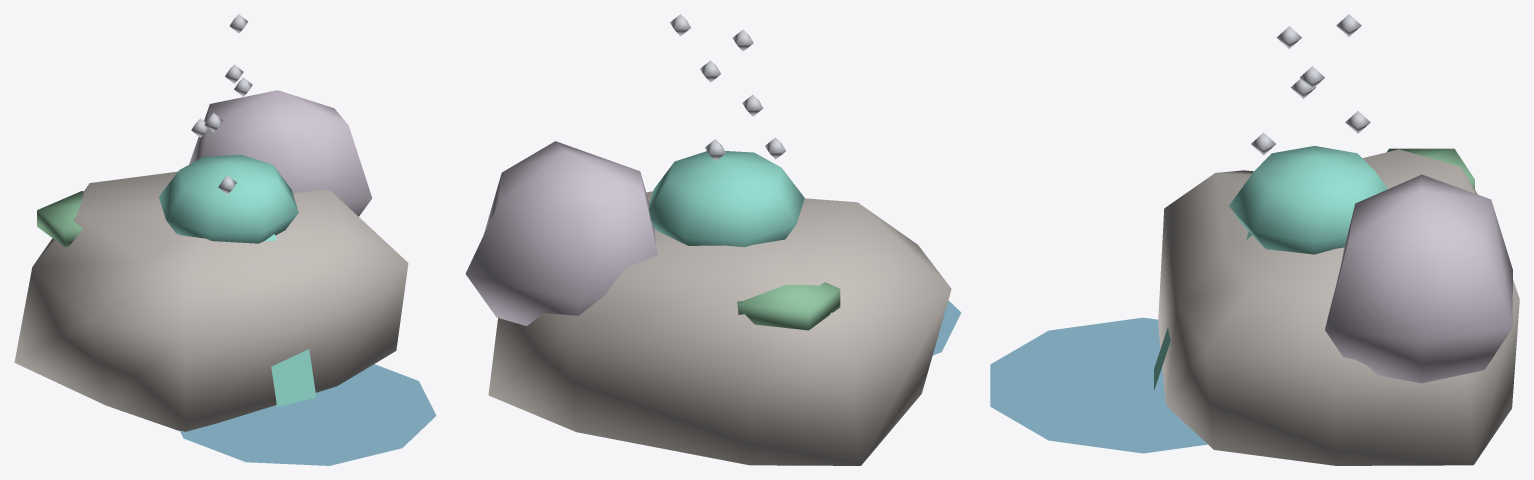
File: ing_rite_spring.gltf
3 renders of one model, left to right at view 1: azimuth 30°, elevation 25°; view 2: azimuth 150°, elevation 25°; view 3: azimuth 270°, elevation 25°, orthographic. The views are drawn at different scales.
Parts seen in each view (by area): view 1: ing_rite_spring; view 2: ing_rite_spring; view 3: ing_rite_spring.
Part boxes in pixels (x1,y1,x2,y2): ing_rite_spring: [14, 14, 436, 465]; ing_rite_spring: [465, 14, 961, 465]; ing_rite_spring: [990, 14, 1519, 465].
Size of what is drawn, in the model's own units: 0.4283 by 0.4018 by 0.494.
